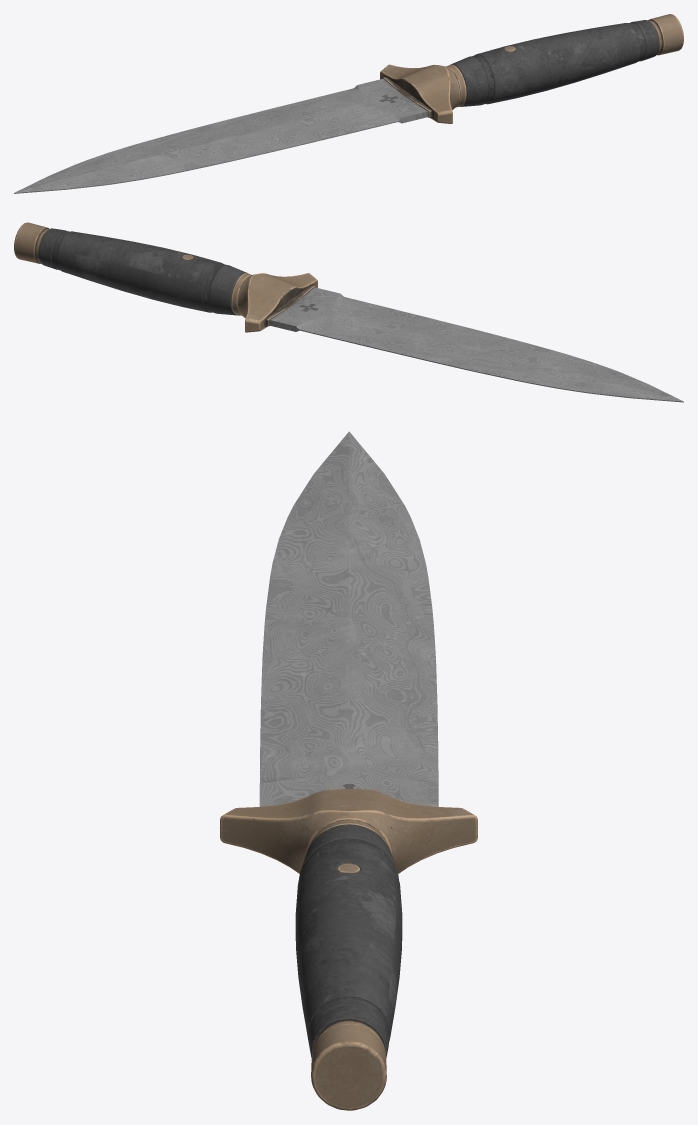
Rendered from dagger.glb.
3 views of the same model, one above another, from view 1: azimuth 30°, elevation 25°; view 2: azimuth 150°, elevation 25°; view 3: azimuth 270°, elevation 25° (orthographic). The views are drawn at different scales.
Visible parts, largest first — view 1: Sheet_12, Sheet_64, Sheet_51, Lofted.004, Sheet_60; view 2: Sheet_12, Sheet_64, Sheet_51, Lofted.004, Sheet_60; view 3: Sheet_12, Sheet_64, Sheet_51, Lofted.004, Sheet_60.
Boxes of the visible parts, x1=… form: Sheet_12: x1=14, y1=78, x2=428, y2=193; Sheet_64: x1=451, y1=20, x2=658, y2=106; Sheet_51: x1=380, y1=64, x2=459, y2=123; Lofted.004: x1=446, y1=14, x2=683, y2=107; Sheet_60: x1=471, y1=22, x2=645, y2=104; Sheet_12: x1=269, y1=287, x2=683, y2=402; Sheet_64: x1=39, y1=228, x2=247, y2=315; Sheet_51: x1=238, y1=273, x2=317, y2=332; Lofted.004: x1=14, y1=222, x2=251, y2=315; Sheet_60: x1=52, y1=231, x2=225, y2=312; Sheet_12: x1=259, y1=431, x2=438, y2=806; Sheet_64: x1=295, y1=824, x2=402, y2=1057; Sheet_51: x1=220, y1=789, x2=477, y2=873; Lofted.004: x1=310, y1=820, x2=388, y2=1110; Sheet_60: x1=301, y1=838, x2=396, y2=1036.
Bounding box in the file's own units: 9.11 × 0.6383 × 1.54.
Materials: 1 (1 with a texture image).
